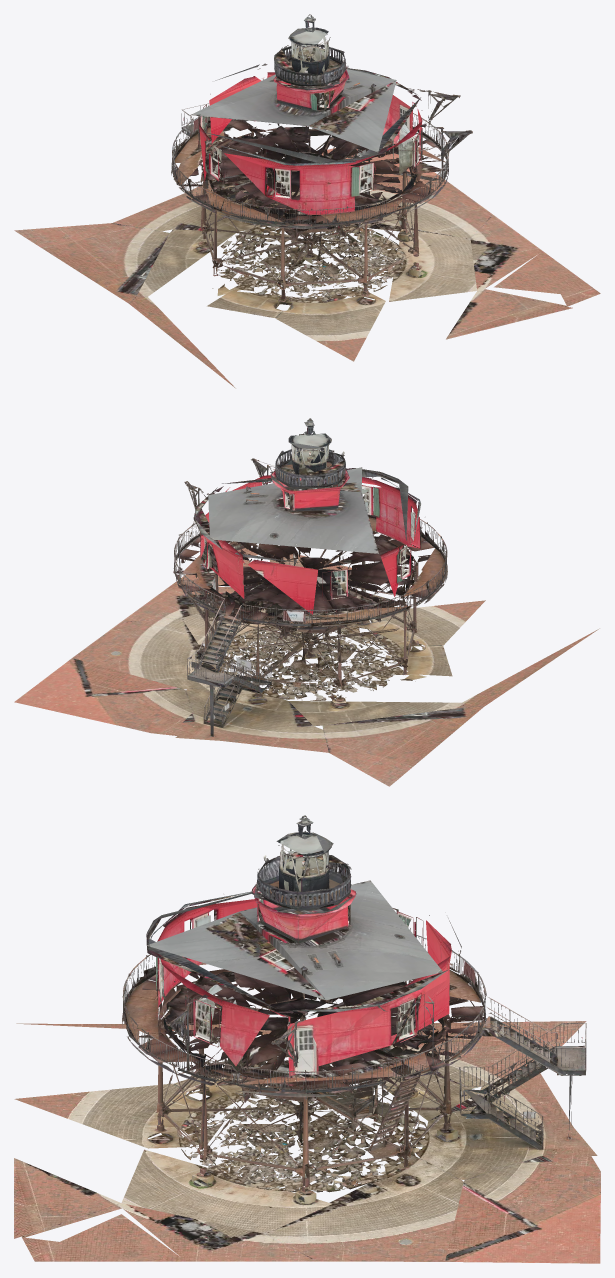
Rendered from lighthouse.glb.
3 views of the same model, one above another, from view 1: azimuth 30°, elevation 25°; view 2: azimuth 150°, elevation 25°; view 3: azimuth 270°, elevation 25° (orthographic). The views are drawn at different scales.
Parts seen in each view (by area): view 1: Object_2, Object_6, Object_4, Object_10, Object_3, Object_15, Object_9, Object_5, Object_13, Object_11, Object_8, Object_12 (+2 smaller); view 2: Object_2, Object_4, Object_3, Object_10, Object_6, Object_9, Object_5, Object_11, Object_15, Object_13, Object_12, Object_8 (+2 smaller); view 3: Object_2, Object_6, Object_4, Object_10, Object_13, Object_3, Object_9, Object_15, Object_14, Object_7, Object_8, Object_11 (+2 smaller).
Part boxes in pixels (<box>): Object_2: <box>14,116,492,388</box>; Object_6: <box>284,66,600,306</box>; Object_4: <box>190,14,400,287</box>; Object_10: <box>224,18,422,263</box>; Object_3: <box>169,105,406,361</box>; Object_15: <box>171,64,572,339</box>; Object_9: <box>181,27,448,303</box>; Object_5: <box>179,117,390,300</box>; Object_13: <box>267,72,460,279</box>; Object_11: <box>182,44,343,297</box>; Object_8: <box>171,68,589,297</box>; Object_12: <box>202,171,402,276</box>; Object_2: <box>14,527,599,786</box>; Object_4: <box>208,418,440,703</box>; Object_3: <box>175,540,485,743</box>; Object_10: <box>232,421,439,598</box>; Object_6: <box>104,481,335,670</box>; Object_9: <box>187,433,447,726</box>; Object_5: <box>235,566,442,710</box>; Object_11: <box>215,426,445,706</box>; Object_15: <box>201,458,447,677</box>; Object_13: <box>176,481,323,673</box>; Object_12: <box>228,549,413,685</box>; Object_8: <box>176,545,445,663</box>; Object_2: <box>16,961,600,1263</box>; Object_6: <box>22,969,448,1261</box>; Object_4: <box>122,815,442,1149</box>; Object_10: <box>122,820,356,1108</box>; Object_13: <box>184,956,449,1204</box>; Object_3: <box>14,962,597,1155</box>; Object_9: <box>123,832,586,1149</box>; Object_15: <box>14,918,486,1238</box>; Object_14: <box>139,950,485,1169</box>; Object_7: <box>124,953,484,1185</box>; Object_8: <box>32,908,487,1257</box>; Object_11: <box>218,869,484,1149</box>.
Bounding box in the file's own units: 23.9 × 15.22 × 24.69.
Materials: 2 (2 with a texture image).
